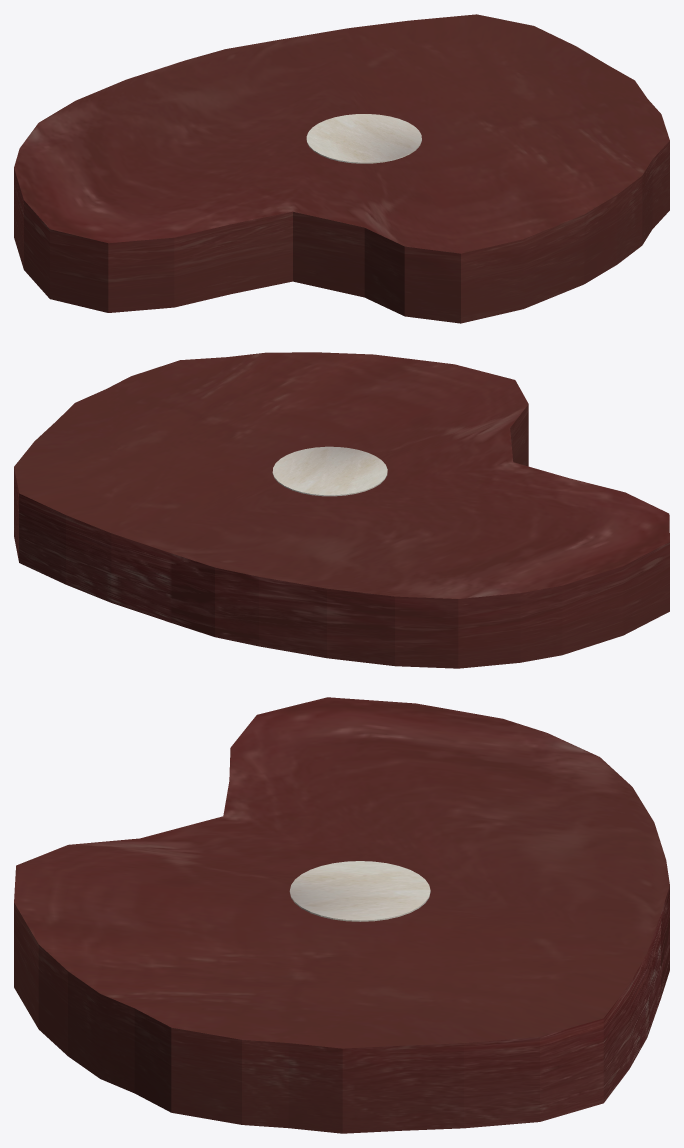
Rendered from BakedMeat.fbx.
The picture shows the model from 3 angles, top to bottom: view 1: azimuth 30°, elevation 25°; view 2: azimuth 150°, elevation 25°; view 3: azimuth 270°, elevation 25°; orthographic projection. The views are drawn at different scales.
Parts seen in each view (by area): view 1: Cylinder.001, Cylinder; view 2: Cylinder.001, Cylinder; view 3: Cylinder.001, Cylinder.
Boxes of the visible parts, <box> form: Cylinder.001: <box>14,14,669,323</box>; Cylinder: <box>306,114,421,163</box>; Cylinder.001: <box>14,352,669,668</box>; Cylinder: <box>272,446,387,496</box>; Cylinder.001: <box>14,697,669,1133</box>; Cylinder: <box>289,861,430,921</box>.
Size of the model in its own units: 0.7791 by 0.6148 by 0.0894.
2 materials, 2 textured.
